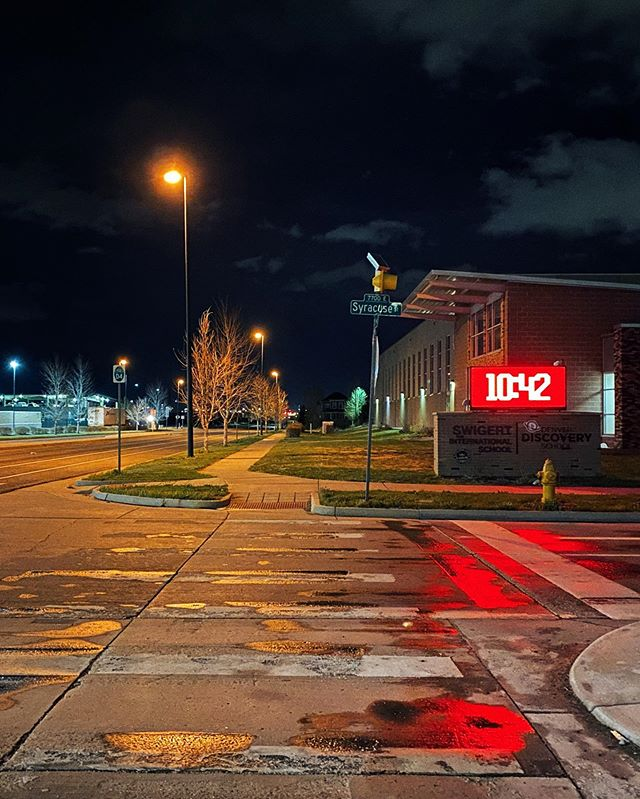building: (362, 276, 621, 432)
crosswalk: (1, 519, 520, 799)
light pole: (153, 158, 204, 449)
sidewalk: (110, 419, 640, 520)
sign: (442, 372, 599, 472)
sky: (1, 1, 613, 337)
street: (1, 475, 640, 799)
